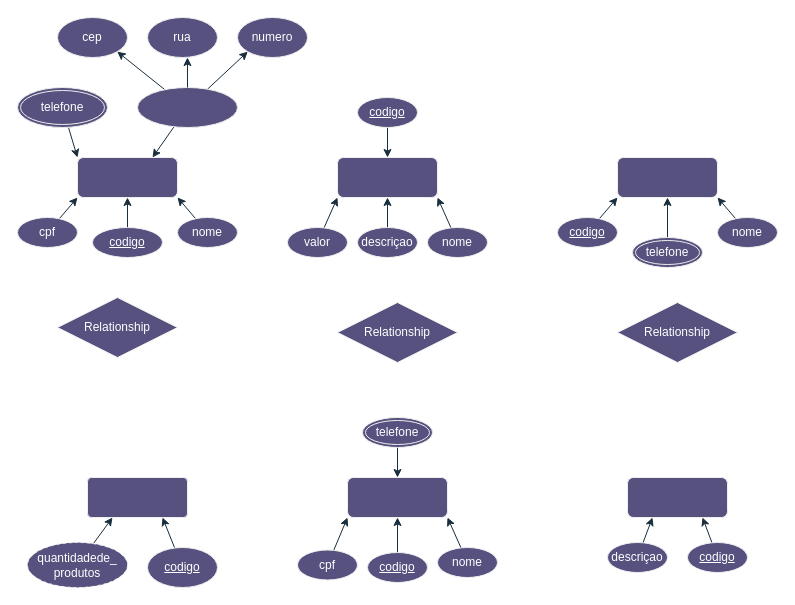
Image size: 795x605. Some labels were removed from this diagram. Each missing label, with the box of its shape:
CLIENTE: (76, 156, 178, 198)
COMPRA: (86, 476, 188, 518)
DEPARTAMENTO: (626, 476, 728, 518)
endereço: (136, 86, 238, 128)
FORNECEDOR: (616, 156, 718, 198)
FUNCIONÁRIOS: (346, 476, 448, 518)
PRODUTO: (336, 156, 438, 198)
